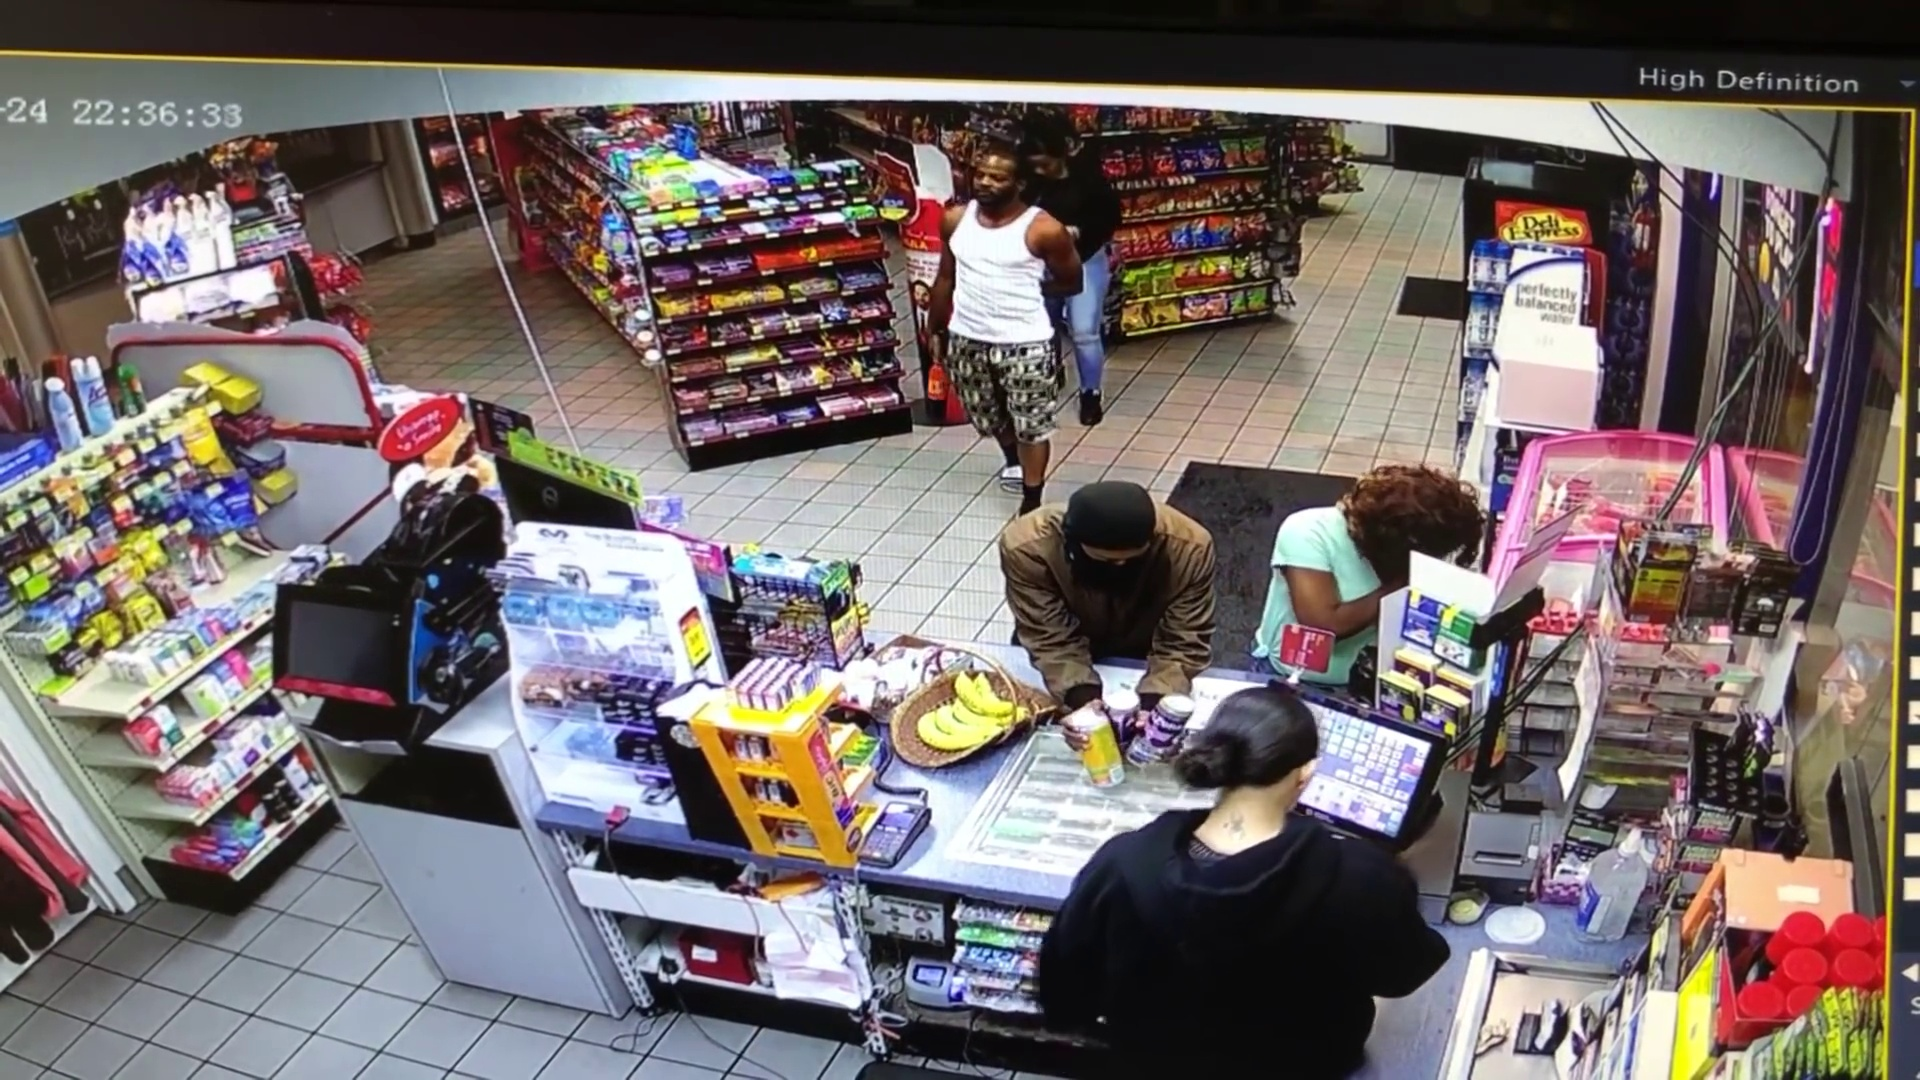face: (974, 152, 1021, 213), (1026, 135, 1059, 181)
